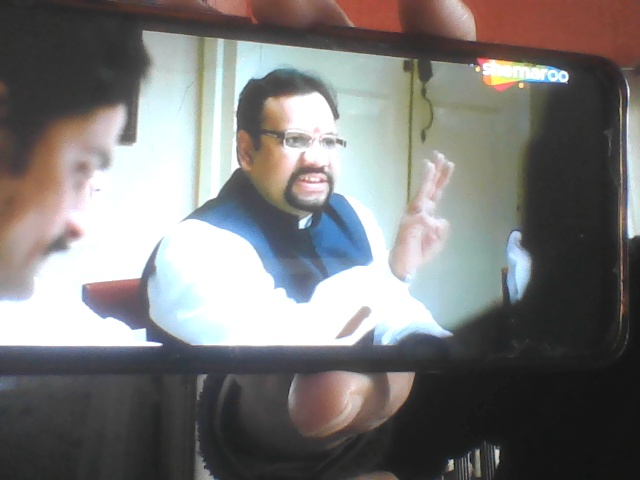fake: (238, 60, 350, 219)
